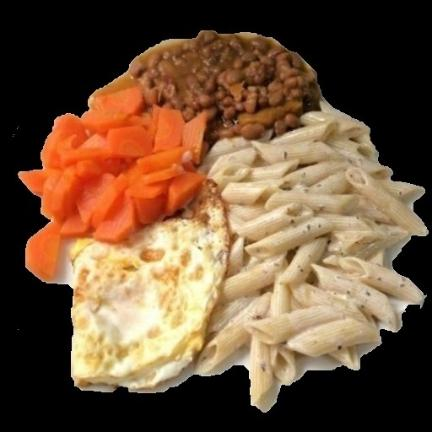beans: (125, 31, 320, 145)
carrot: (19, 86, 206, 280)
egg: (72, 181, 226, 388)
pasta: (198, 101, 426, 402)
